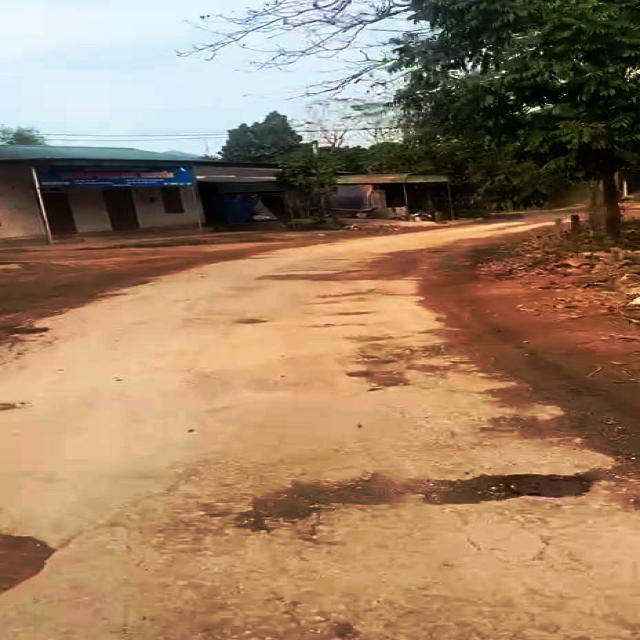pothole: (242, 462, 612, 533), (0, 525, 74, 596)
